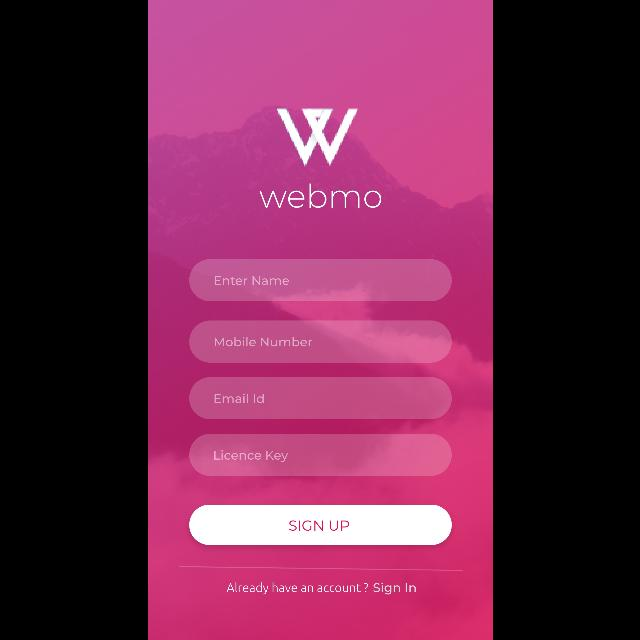backgroundimage: (148, 1, 492, 640)
image: (276, 109, 358, 167)
input: (188, 259, 452, 301), (188, 321, 452, 363), (188, 377, 452, 419), (188, 434, 452, 476)
text: (259, 184, 381, 208), (227, 583, 416, 595), (214, 338, 312, 347), (213, 451, 287, 462), (214, 276, 288, 286), (214, 393, 262, 402)
textbutton: (188, 505, 452, 545)
